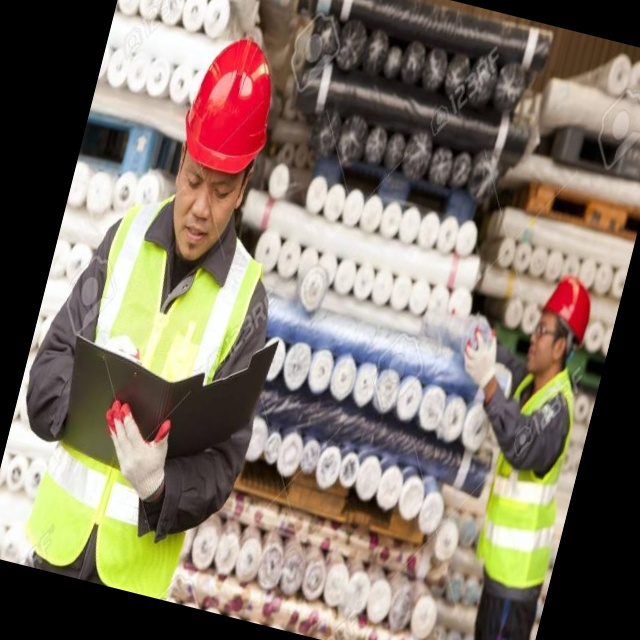Con_Chaleco: (26, 202, 270, 604), (465, 372, 595, 601)
